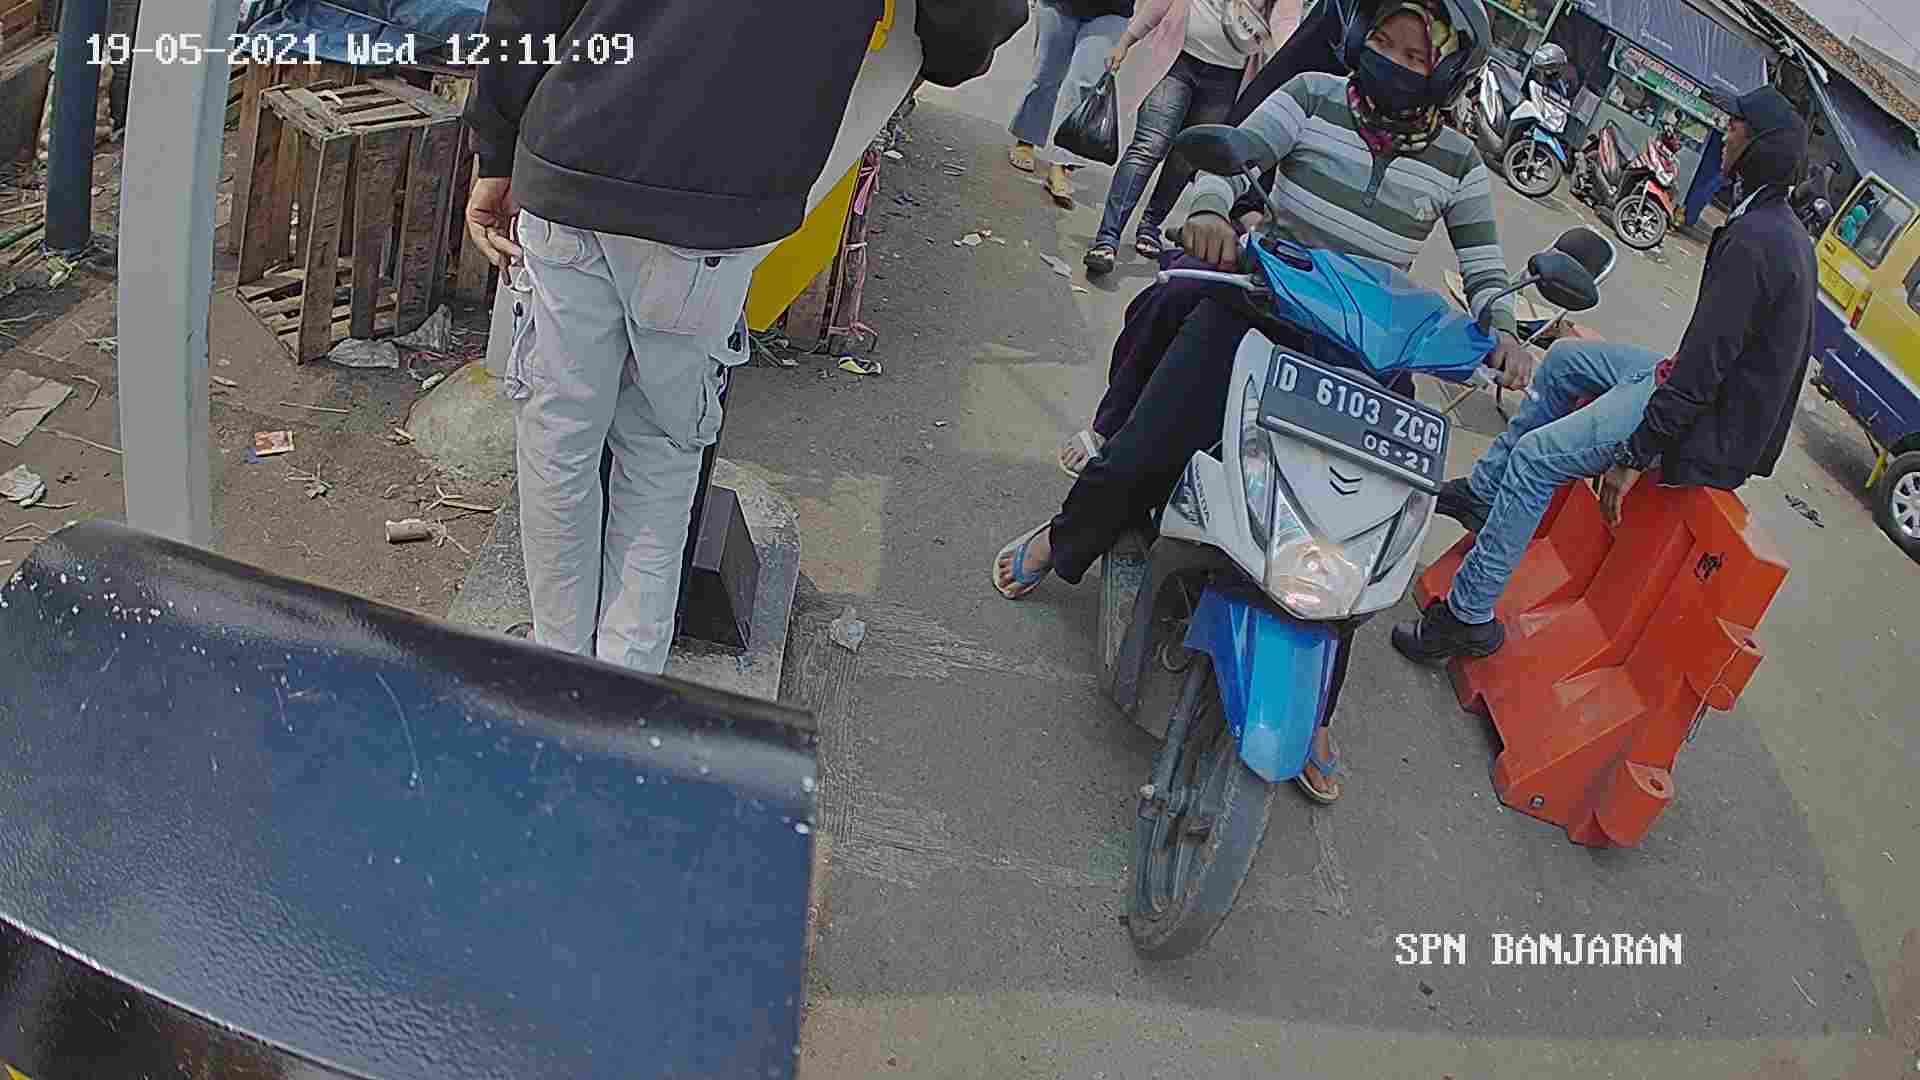motor: (1083, 128, 1495, 982)
